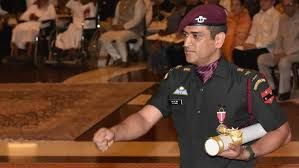uniform: (151, 57, 267, 168)
